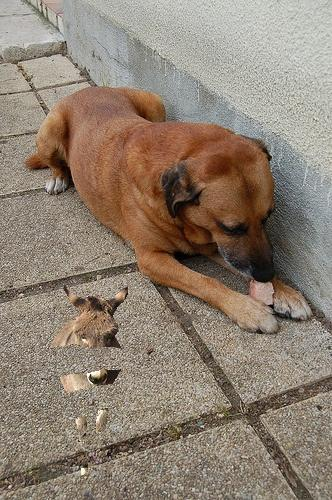tampered: (51, 286, 128, 475)
